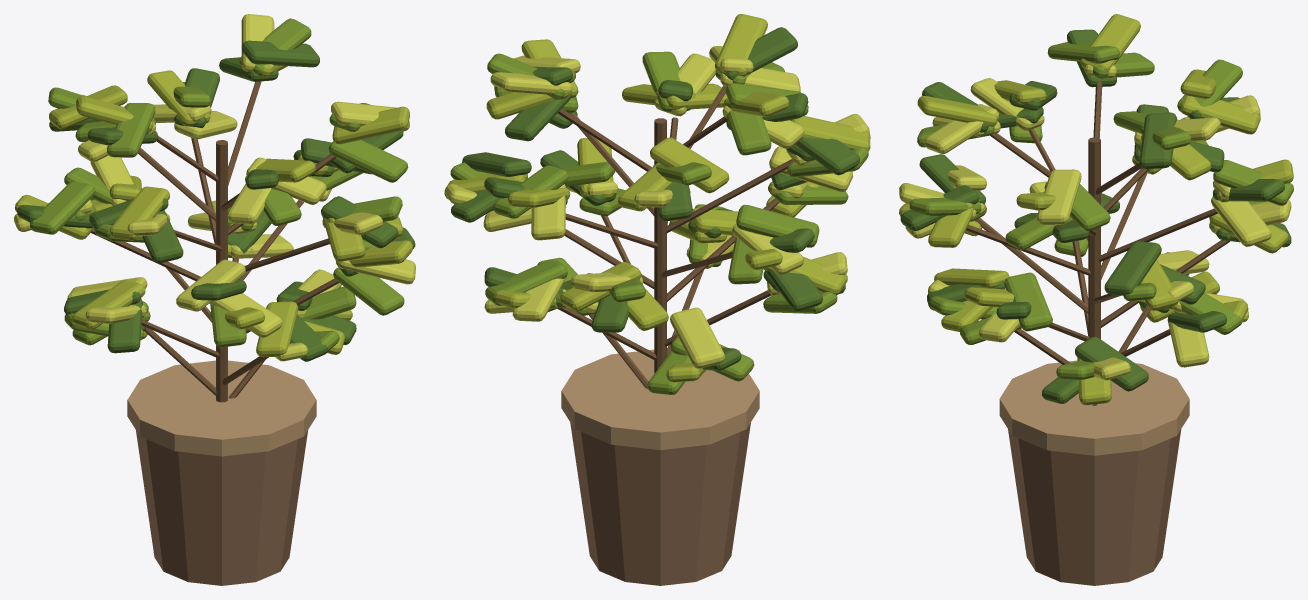
The model's file is plant_desk.glb.
3 views of the same model, side by side, from view 1: azimuth 30°, elevation 25°; view 2: azimuth 150°, elevation 25°; view 3: azimuth 270°, elevation 25° (orthographic). The views are drawn at different scales.
Visible parts, largest first — view 1: plant_desk__terracotta, plant_desk__leaf_mid, plant_desk__leaf_tip, plant_desk__leaf, plant_desk__leaf_light, plant_desk__pot_rim, plant_desk__bark; view 2: plant_desk__terracotta, plant_desk__leaf_light, plant_desk__leaf_mid, plant_desk__leaf_tip, plant_desk__leaf, plant_desk__pot_rim, plant_desk__bark; view 3: plant_desk__terracotta, plant_desk__leaf, plant_desk__leaf_light, plant_desk__leaf_mid, plant_desk__leaf_tip, plant_desk__pot_rim, plant_desk__bark.
Boxes of the visible parts, left/top/right/bottom form: plant_desk__terracotta: left=136, top=430, right=307, bottom=585; plant_desk__leaf_mid: left=30, top=18, right=408, bottom=350; plant_desk__leaf_tip: left=14, top=14, right=415, bottom=361; plant_desk__leaf: left=17, top=40, right=415, bottom=361; plant_desk__leaf_light: left=15, top=64, right=413, bottom=357; plant_desk__pot_rim: left=127, top=360, right=316, bottom=456; plant_desk__bark: left=90, top=81, right=338, bottom=402; plant_desk__terracotta: left=570, top=422, right=750, bottom=585; plant_desk__leaf_light: left=444, top=14, right=870, bottom=382; plant_desk__leaf_mid: left=450, top=51, right=868, bottom=394; plant_desk__leaf_tip: left=445, top=46, right=869, bottom=368; plant_desk__leaf: left=451, top=27, right=859, bottom=370; plant_desk__pot_rim: left=561, top=349, right=759, bottom=450; plant_desk__bark: left=557, top=85, right=793, bottom=388; plant_desk__terracotta: left=1008, top=429, right=1181, bottom=585; plant_desk__leaf: left=900, top=29, right=1291, bottom=403; plant_desk__leaf_light: left=899, top=14, right=1293, bottom=405; plant_desk__leaf_mid: left=909, top=42, right=1293, bottom=380; plant_desk__leaf_tip: left=899, top=64, right=1291, bottom=380; plant_desk__pot_rim: left=999, top=360, right=1189, bottom=455; plant_desk__bark: left=966, top=79, right=1229, bottom=405.
Bounding box in the file's own units: 0.2616 × 0.3489 × 0.2595.
